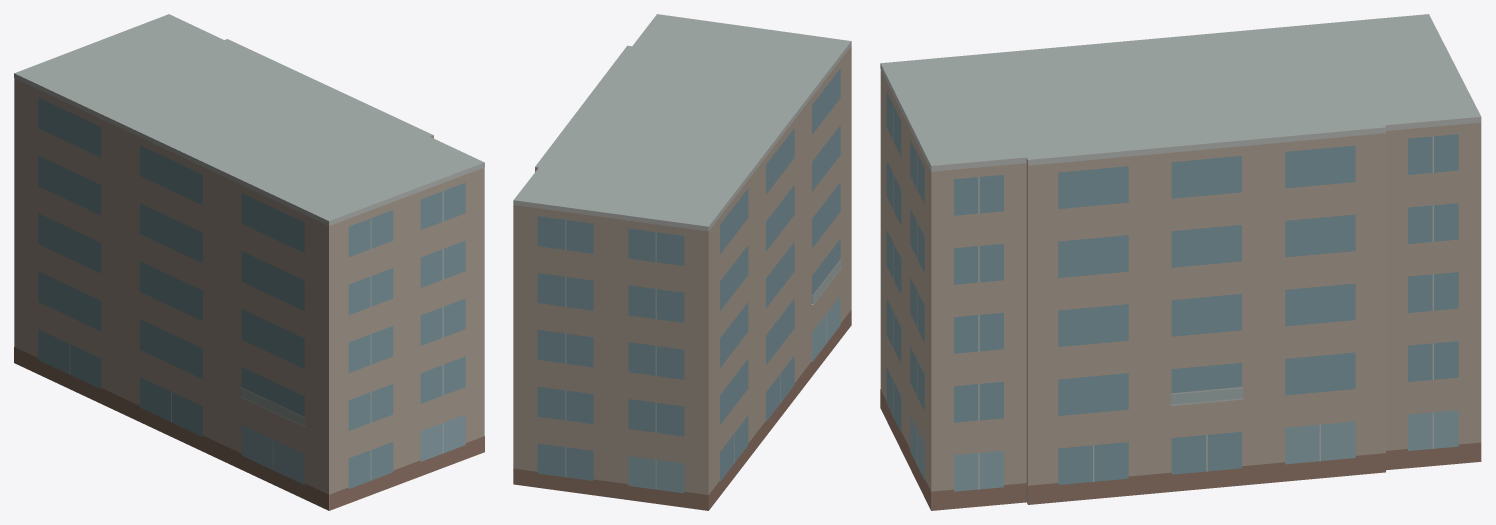
File: survey-upis-32914128.glb
3 views of the same model, side by side, from view 1: azimuth 30°, elevation 25°; view 2: azimuth 150°, elevation 25°; view 3: azimuth 270°, elevation 25° (orthographic). The views are drawn at different scales.
Parts seen in each view (by area): view 1: survey-upis-32914128.tmp; view 2: survey-upis-32914128.tmp; view 3: survey-upis-32914128.tmp.
Boxes of the visible parts, x1,y1,x2,y2 form: survey-upis-32914128.tmp: (14,14,484,510); survey-upis-32914128.tmp: (513,14,851,510); survey-upis-32914128.tmp: (880,14,1481,510).
Size of the model in its own units: 13.9 by 14.7 by 23.22.
